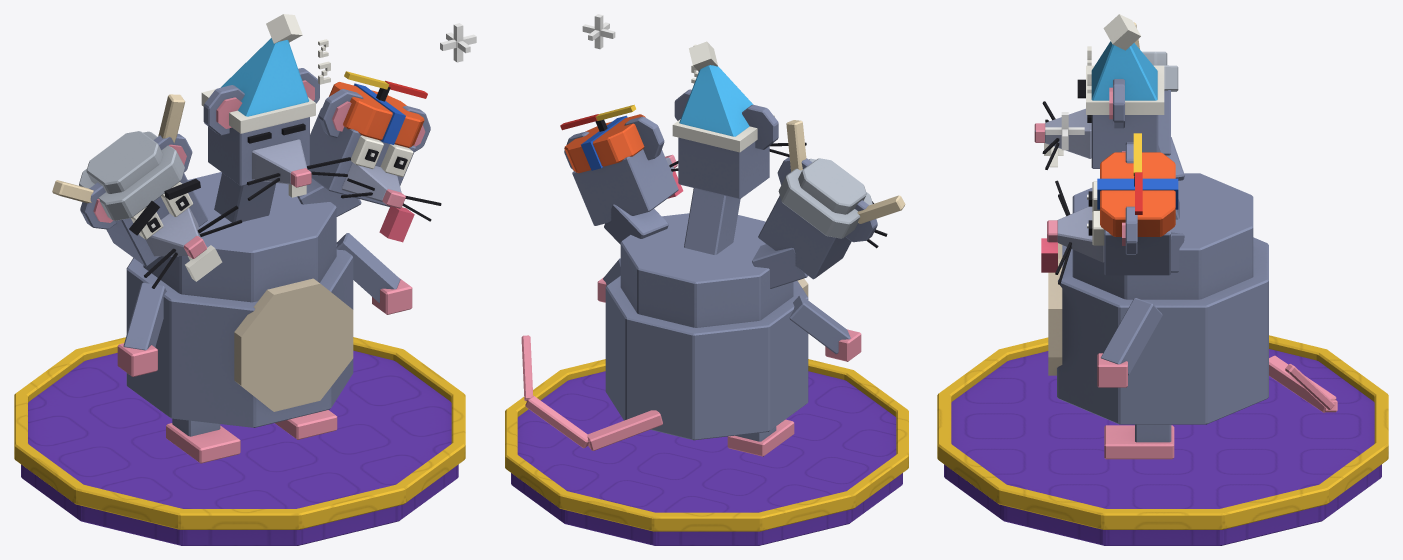
File: ThreeHeadedRat.fbx
3 views of the same model, side by side, from view 1: azimuth 30°, elevation 25°; view 2: azimuth 150°, elevation 25°; view 3: azimuth 270°, elevation 25° (orthographic). The views are drawn at different scales.
Parts seen in each view (by area): view 1: Art_ThreeHeadedRat_Stand, Art_ThreeHeadedRat_Body, Art_ThreeHeadedRat_HeadC, Art_ThreeHeadedRat_HeadL, Art_ThreeHeadedRat_HeadR, Art_ThreeHeadedRat_ArmL, Art_ThreeHeadedRat_ArmR, Art_ThreeHeadedRat_LegL, Art_ThreeHeadedRat_LegR, Art_ThreeHeadedRat_Propeller; view 2: Art_ThreeHeadedRat_Stand, Art_ThreeHeadedRat_Body, Art_ThreeHeadedRat_HeadC, Art_ThreeHeadedRat_HeadL, Art_ThreeHeadedRat_HeadR, Art_ThreeHeadedRat_Tail, Art_ThreeHeadedRat_ArmL, Art_ThreeHeadedRat_LegL, Art_ThreeHeadedRat_Propeller; view 3: Art_ThreeHeadedRat_Stand, Art_ThreeHeadedRat_Body, Art_ThreeHeadedRat_HeadR, Art_ThreeHeadedRat_HeadC, Art_ThreeHeadedRat_ArmR, Art_ThreeHeadedRat_LegR, Art_ThreeHeadedRat_HeadL, Art_ThreeHeadedRat_Tail, Art_ThreeHeadedRat_Propeller.
Boxes of the visible parts, bbox=[...] form: Art_ThreeHeadedRat_Stand: bbox=[14, 23, 476, 545]; Art_ThreeHeadedRat_Body: bbox=[126, 172, 353, 427]; Art_ThreeHeadedRat_HeadC: bbox=[201, 14, 350, 222]; Art_ThreeHeadedRat_HeadL: bbox=[52, 94, 242, 288]; Art_ThreeHeadedRat_HeadR: bbox=[297, 82, 441, 242]; Art_ThreeHeadedRat_ArmL: bbox=[117, 282, 166, 376]; Art_ThreeHeadedRat_ArmR: bbox=[336, 233, 412, 314]; Art_ThreeHeadedRat_LegL: bbox=[166, 418, 240, 463]; Art_ThreeHeadedRat_LegR: bbox=[275, 410, 337, 439]; Art_ThreeHeadedRat_Propeller: bbox=[344, 71, 427, 101]; Art_ThreeHeadedRat_Stand: bbox=[505, 14, 908, 545]; Art_ThreeHeadedRat_Body: bbox=[605, 213, 808, 440]; Art_ThreeHeadedRat_HeadC: bbox=[672, 41, 806, 254]; Art_ThreeHeadedRat_HeadL: bbox=[752, 120, 905, 288]; Art_ThreeHeadedRat_HeadR: bbox=[564, 114, 683, 244]; Art_ThreeHeadedRat_Tail: bbox=[521, 335, 662, 450]; Art_ThreeHeadedRat_ArmL: bbox=[789, 295, 861, 361]; Art_ThreeHeadedRat_LegL: bbox=[727, 419, 794, 456]; Art_ThreeHeadedRat_Propeller: bbox=[560, 104, 635, 131]; Art_ThreeHeadedRat_Stand: bbox=[937, 112, 1388, 545]; Art_ThreeHeadedRat_Body: bbox=[1048, 173, 1268, 424]; Art_ThreeHeadedRat_HeadR: bbox=[1041, 142, 1184, 284]; Art_ThreeHeadedRat_HeadC: bbox=[1034, 14, 1179, 219]; Art_ThreeHeadedRat_ArmR: bbox=[1097, 298, 1162, 387]; Art_ThreeHeadedRat_LegR: bbox=[1104, 424, 1174, 459]; Art_ThreeHeadedRat_HeadL: bbox=[1049, 22, 1184, 180]; Art_ThreeHeadedRat_Tail: bbox=[1269, 355, 1337, 412]; Art_ThreeHeadedRat_Propeller: bbox=[1133, 133, 1142, 214].
Size of the model in its own units: 3.29 by 3.56 by 3.23.
